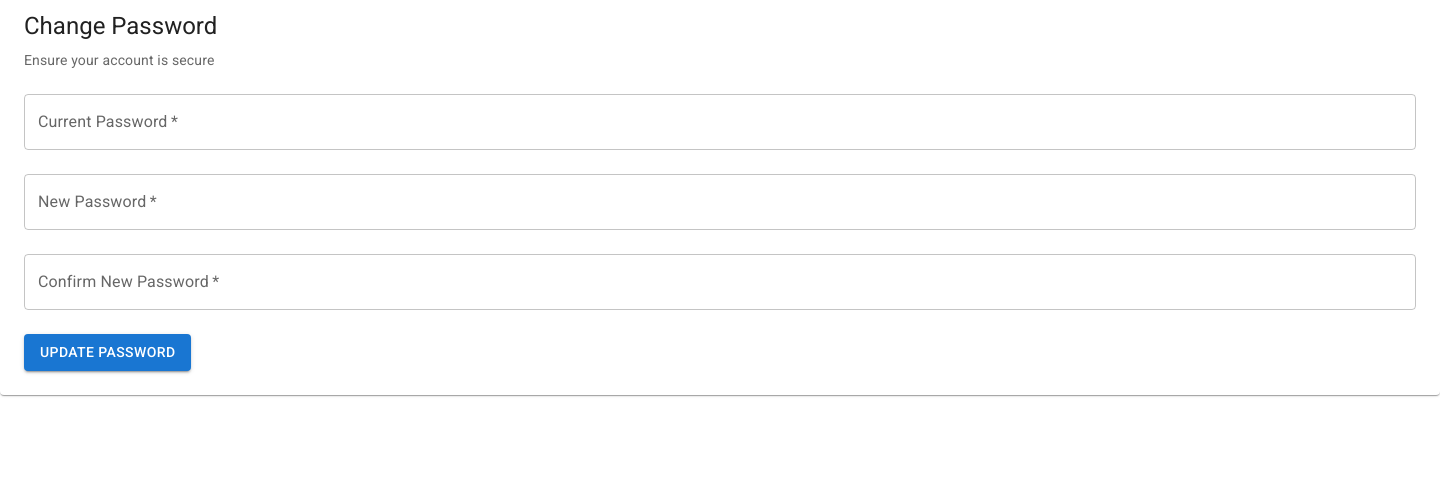
Test: UpdatePasswordForm › shows error if new passwords do not match
Type "oldpass" into the password field labelled "Current Password *" at (720, 122), box top-left (24, 94), bottom-right (1416, 150)
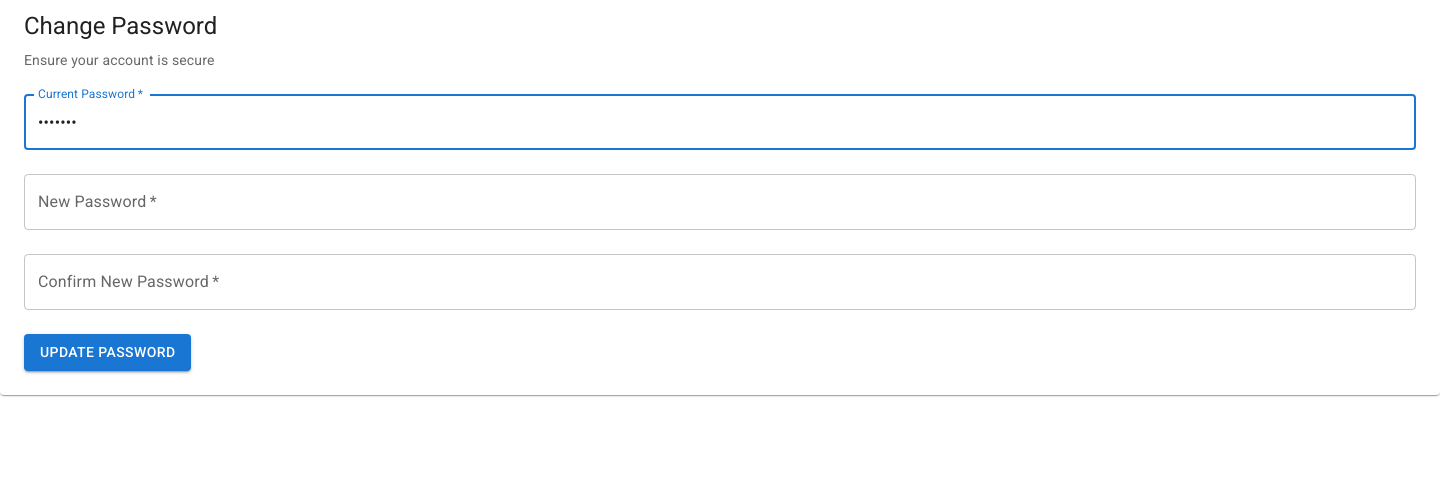
Type "newpass1" into the password field labelled "New Password *" at (720, 202), box top-left (24, 174), bottom-right (1416, 230)
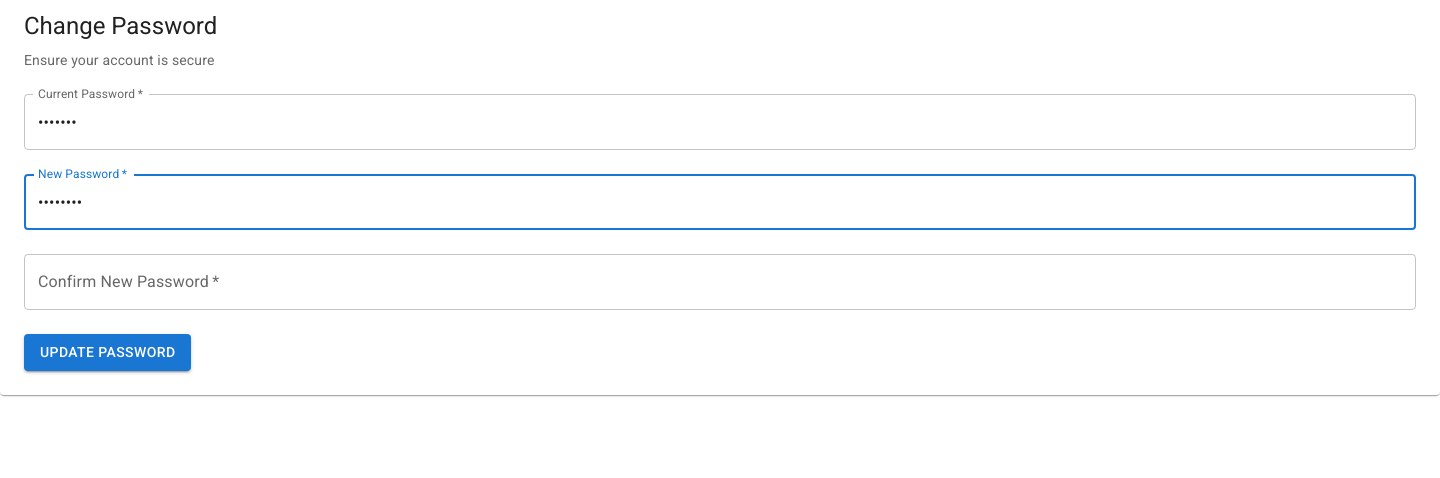
Type "newpass2" into the password field labelled "Confirm New Password *" at (720, 282), box top-left (24, 254), bottom-right (1416, 310)
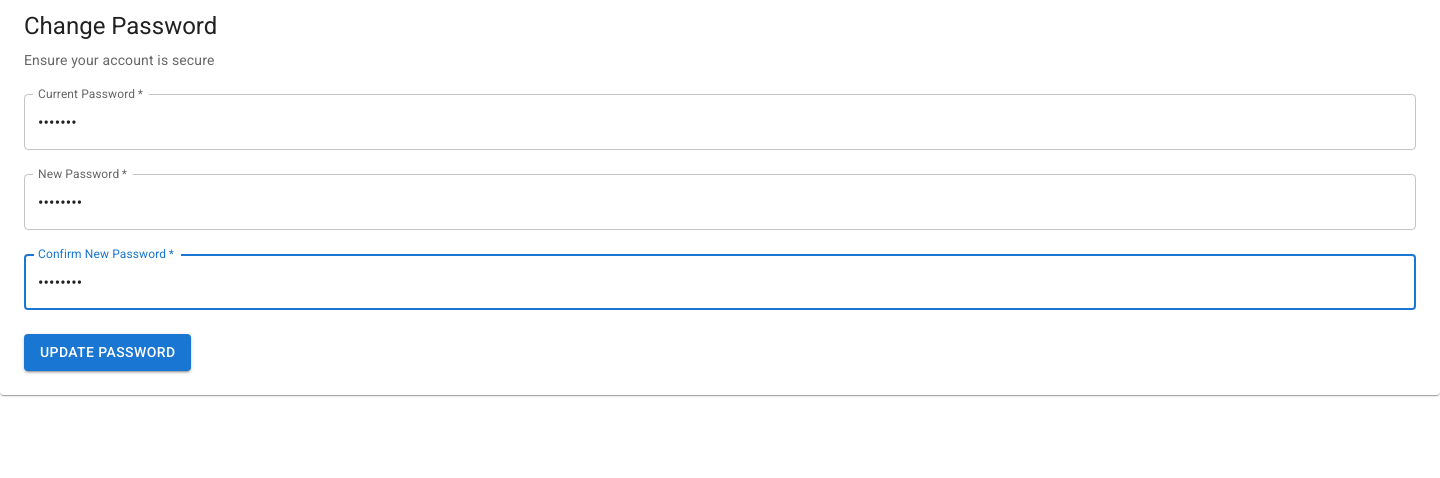
Click the button with test id "update-password-button" at (108, 353), box top-left (24, 334), bottom-right (192, 371)
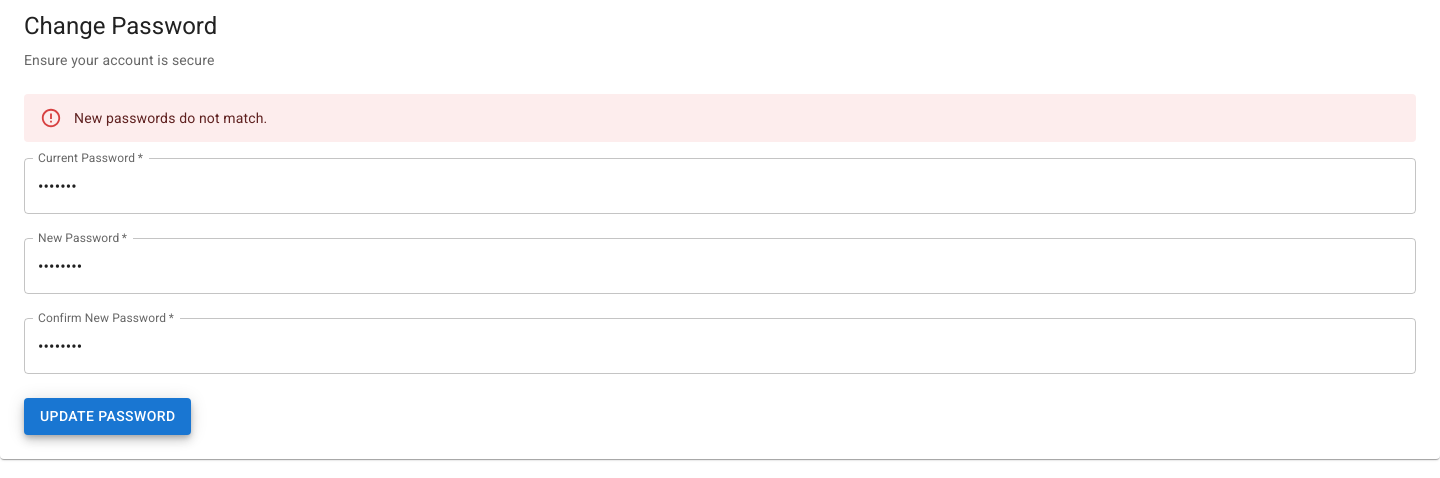
Result: the text "New passwords do not match." is shown at top-left (74, 110), bottom-right (267, 126)
